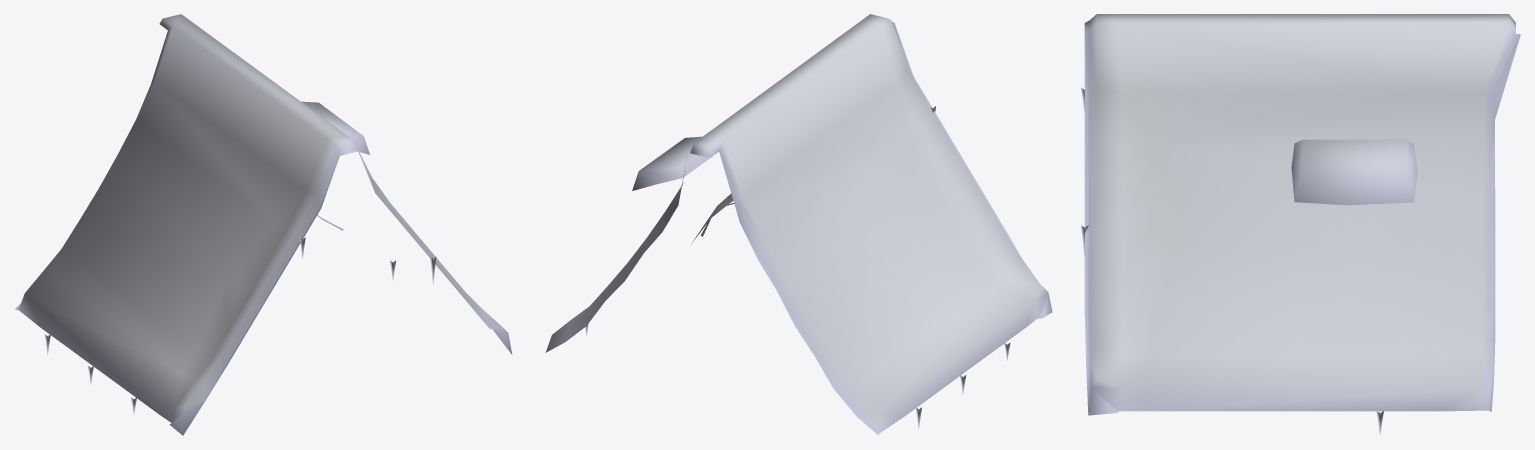
File: category.other.xs.snow.glb
3 views of the same model, side by side, from view 1: azimuth 30°, elevation 25°; view 2: azimuth 150°, elevation 25°; view 3: azimuth 270°, elevation 25° (orthographic). The views are drawn at different scales.
Parts seen in each view (by area): view 1: snow, tier.2; view 2: snow, tier.2; view 3: snow, tier.2.
Boxes of the visible parts, x1,y1,x2,y2 form: snow: [15, 14, 512, 435]; tier.2: [301, 101, 369, 154]; snow: [545, 14, 1052, 434]; tier.2: [632, 136, 716, 190]; snow: [1081, 14, 1520, 435]; tier.2: [1291, 138, 1417, 205].
Size of the model in its own units: 2.36 by 1.78 by 2.22.
